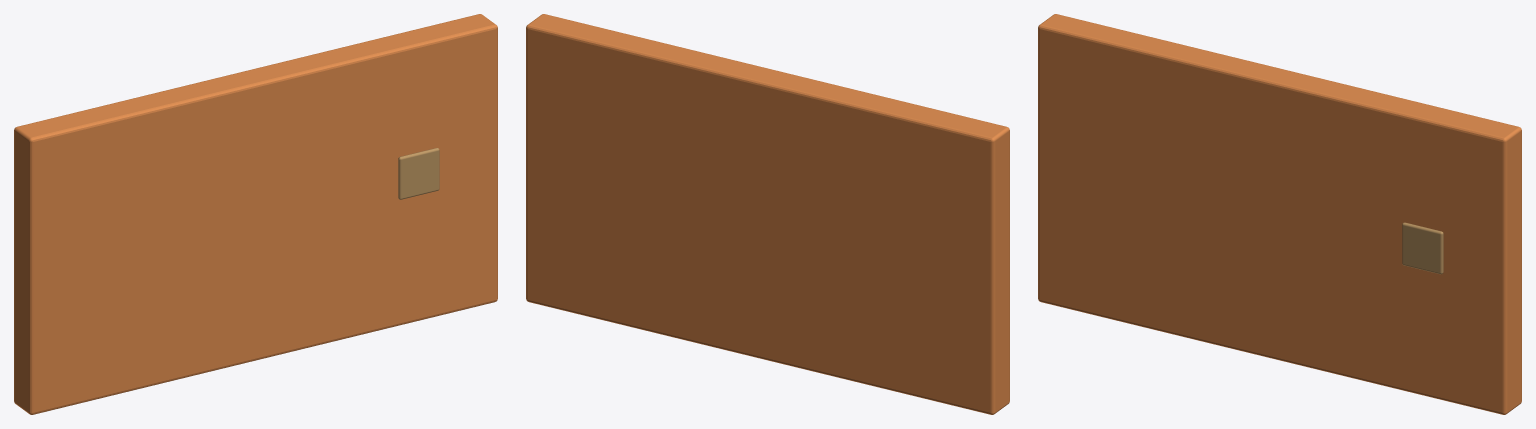
File: doorleaf.glb
3 renders of one model, left to right at view 1: azimuth 30°, elevation 25°; view 2: azimuth 150°, elevation 25°; view 3: azimuth 330°, elevation 25°, orthographic.
Parts seen in each view (by area): view 1: doorleaf; view 2: doorleaf; view 3: doorleaf.
Boxes of the visible parts, bbox=[...] form: doorleaf: bbox=[14, 14, 497, 414]; doorleaf: bbox=[526, 14, 1009, 414]; doorleaf: bbox=[1038, 14, 1521, 414].
Bounding box in the file's own units: 0.046 × 0.026 × 0.0034.
